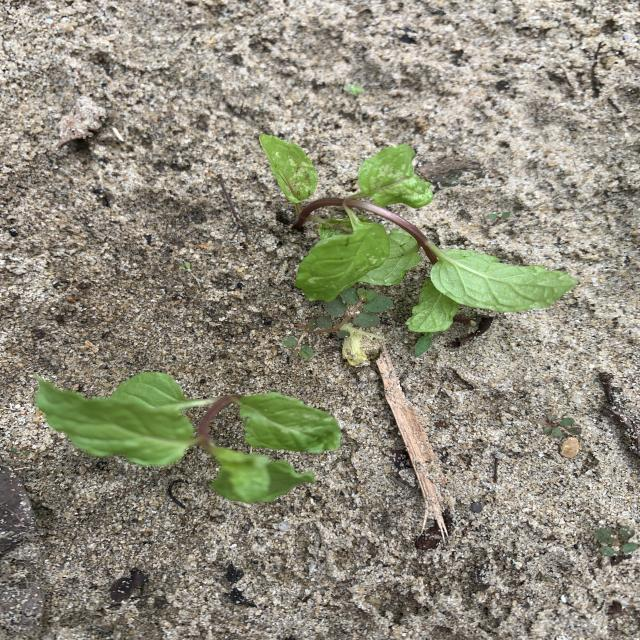crop: (259, 134, 578, 331), (36, 372, 339, 503)
weed: (282, 287, 393, 358), (594, 526, 640, 564), (543, 415, 581, 438), (415, 333, 432, 357), (487, 211, 511, 227), (343, 83, 365, 97)
